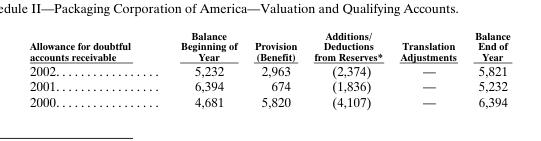table: (28, 29, 509, 109)
table column: (28, 29, 155, 109), (155, 29, 245, 109), (304, 29, 390, 109), (390, 29, 465, 109), (245, 29, 304, 109), (465, 29, 509, 109)
table column header: (28, 29, 509, 62)
table row: (28, 29, 509, 62), (28, 62, 509, 78), (28, 93, 509, 109), (28, 78, 509, 93)
